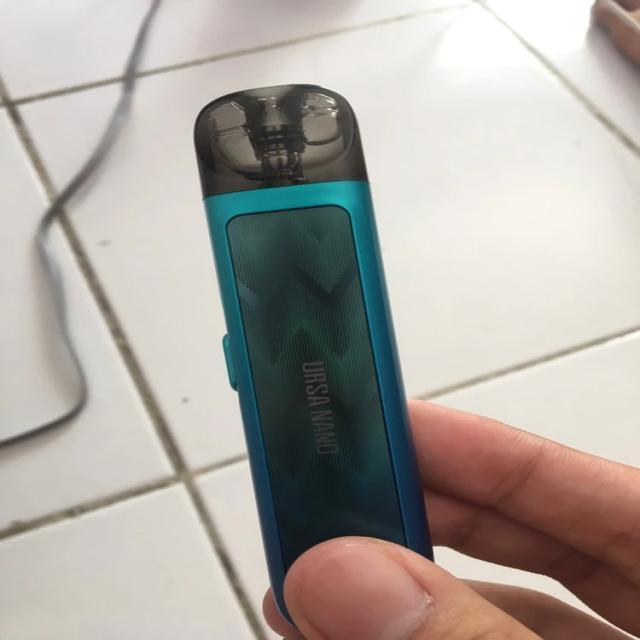Hazard: (190, 85, 436, 640)
